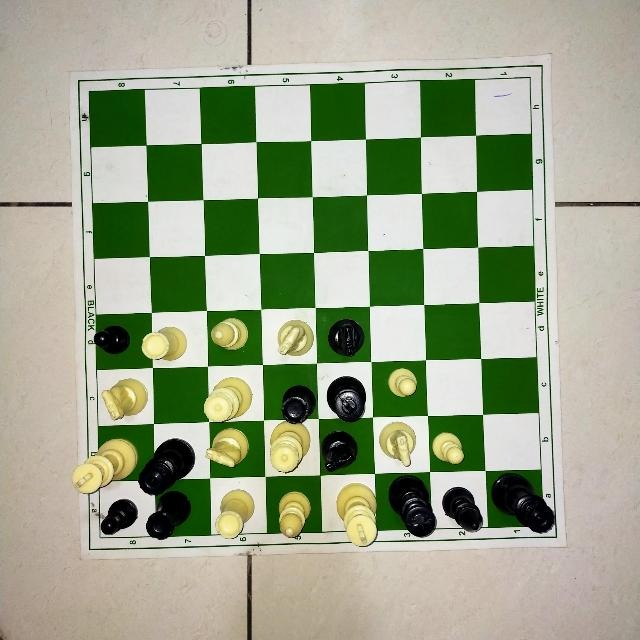black-bishop: (442, 485, 485, 534)
black-king: (386, 481, 439, 539), (325, 376, 369, 422)
black-knight: (323, 309, 370, 357), (324, 425, 368, 476)
black-pawn: (94, 498, 139, 538), (95, 318, 134, 360)
black-queen: (490, 472, 557, 534), (142, 438, 198, 491)
black-rook: (145, 492, 194, 540), (278, 384, 316, 423)
white-bishop: (210, 313, 258, 362), (275, 491, 315, 538)
white-king: (68, 437, 138, 493), (323, 483, 379, 546)
white-knight: (97, 372, 155, 421), (265, 310, 313, 362), (206, 427, 255, 471), (379, 422, 419, 468)
white-pawn: (383, 363, 419, 401), (433, 430, 466, 467)
white-queen: (200, 372, 254, 423), (271, 424, 311, 472)
white-rook: (214, 477, 266, 539), (142, 314, 190, 364)
